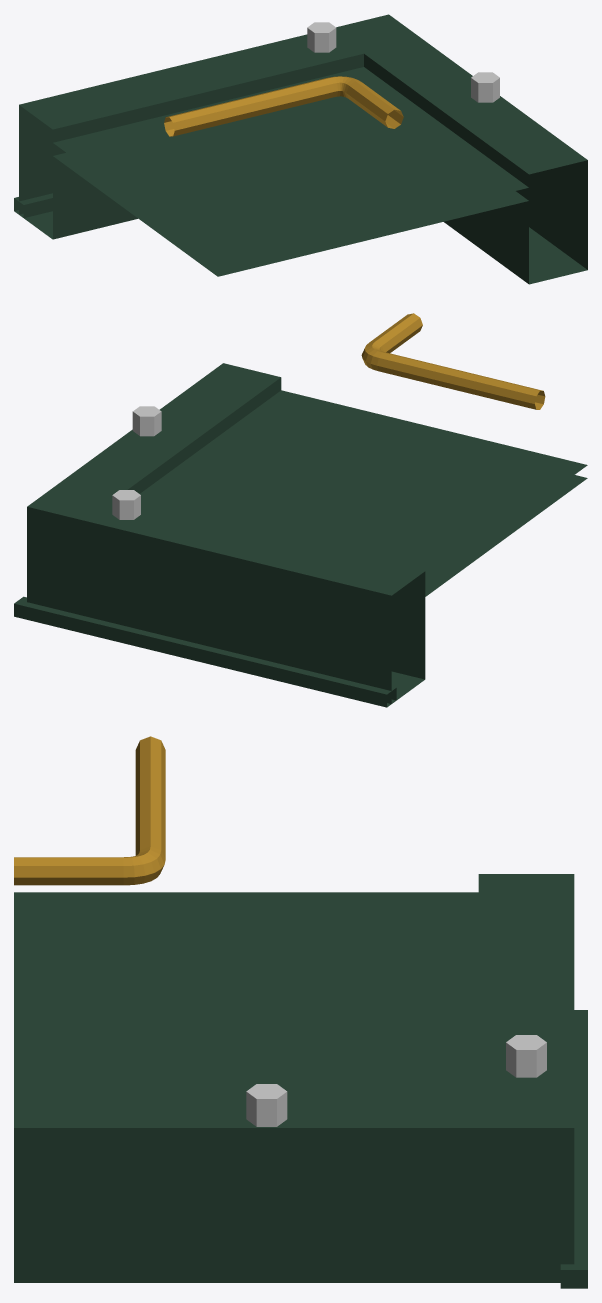
File: cell_6.obj
3 views of the same model, one above another, from view 1: azimuth 30°, elevation 25°; view 2: azimuth 150°, elevation 25°; view 3: azimuth 270°, elevation 25° (orthographic). The views are drawn at different scales.
Bounding box in the file's own units: 0.9 × 0.472 × 0.84.
